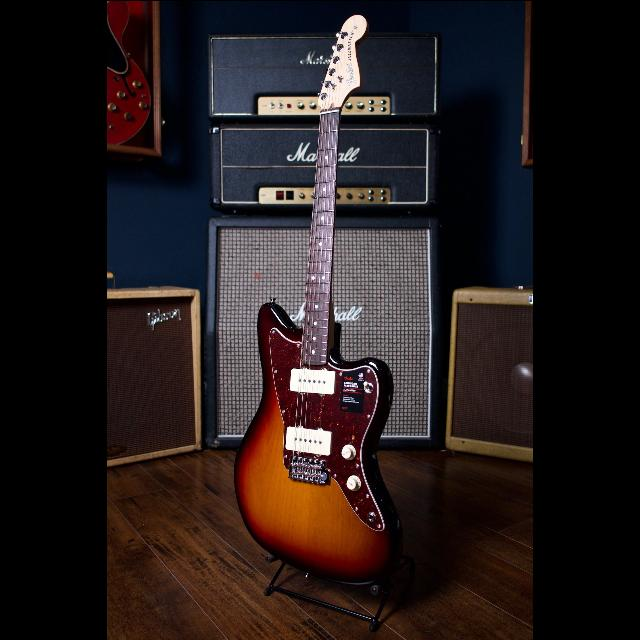Electric-Guitar: (230, 5, 406, 587)
